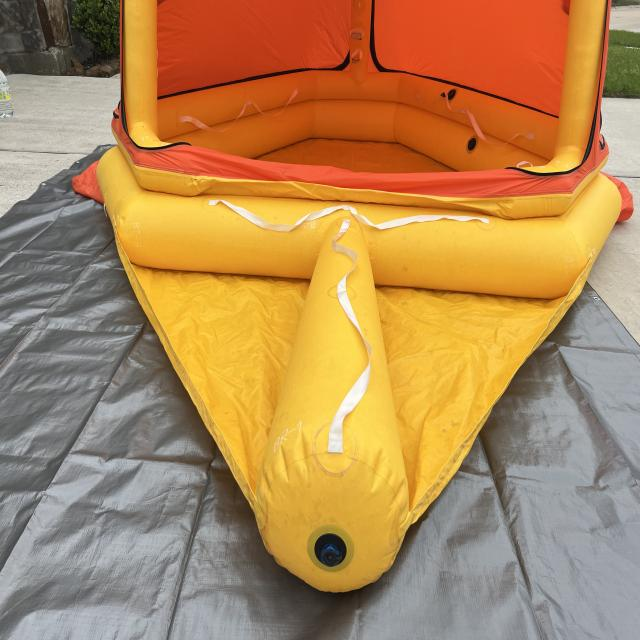Multi-person_life_raft: (70, 1, 634, 593)
